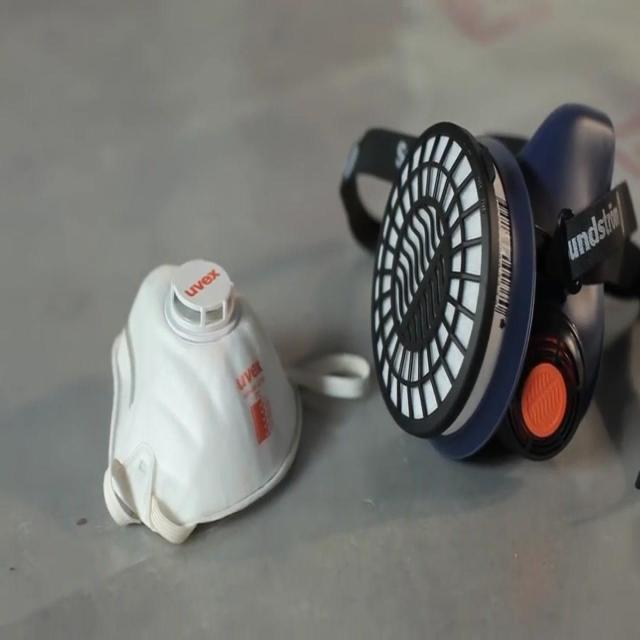Mask: (363, 103, 615, 470), (101, 243, 311, 521)
